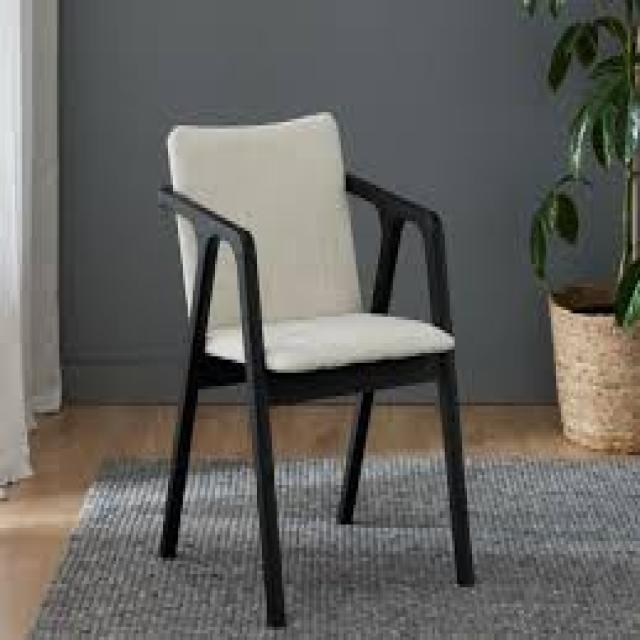chair: (106, 90, 504, 640)
